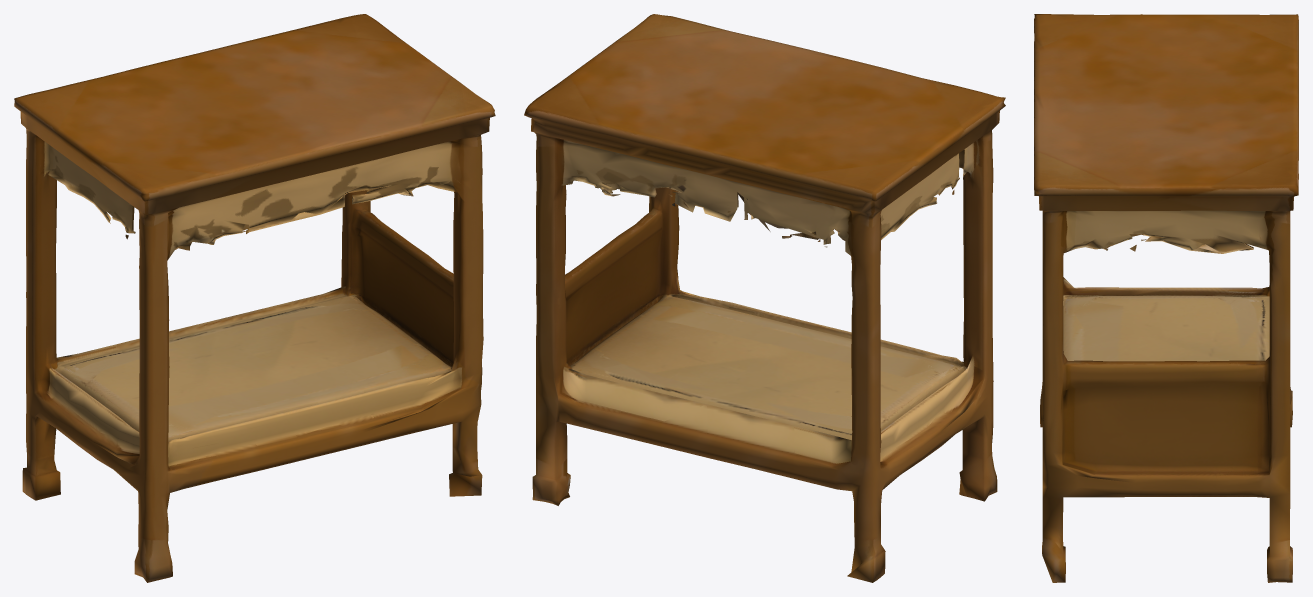
Rendered from Higaan.glb.
The picture shows the model from 3 angles, left to right: view 1: azimuth 30°, elevation 25°; view 2: azimuth 150°, elevation 25°; view 3: azimuth 270°, elevation 25°; orthographic projection.
Size of the model in its own units: 1.79 by 1.91 by 1.15.
1 material, 1 textured.
